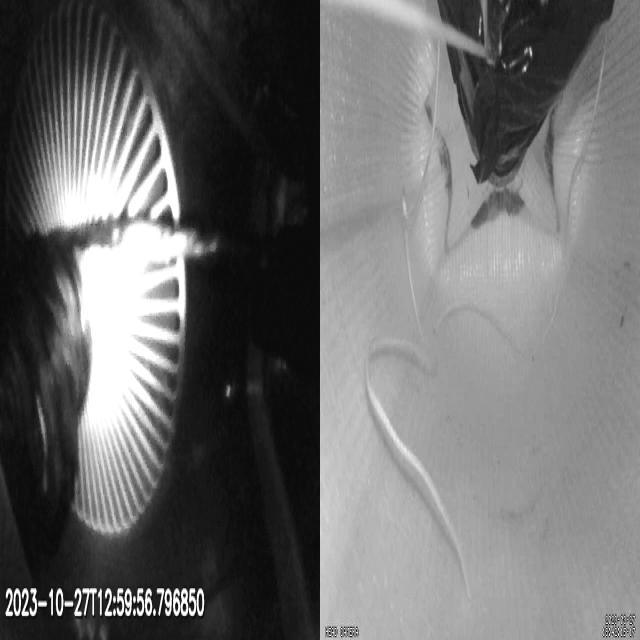red-circle: (425, 96, 563, 230)
